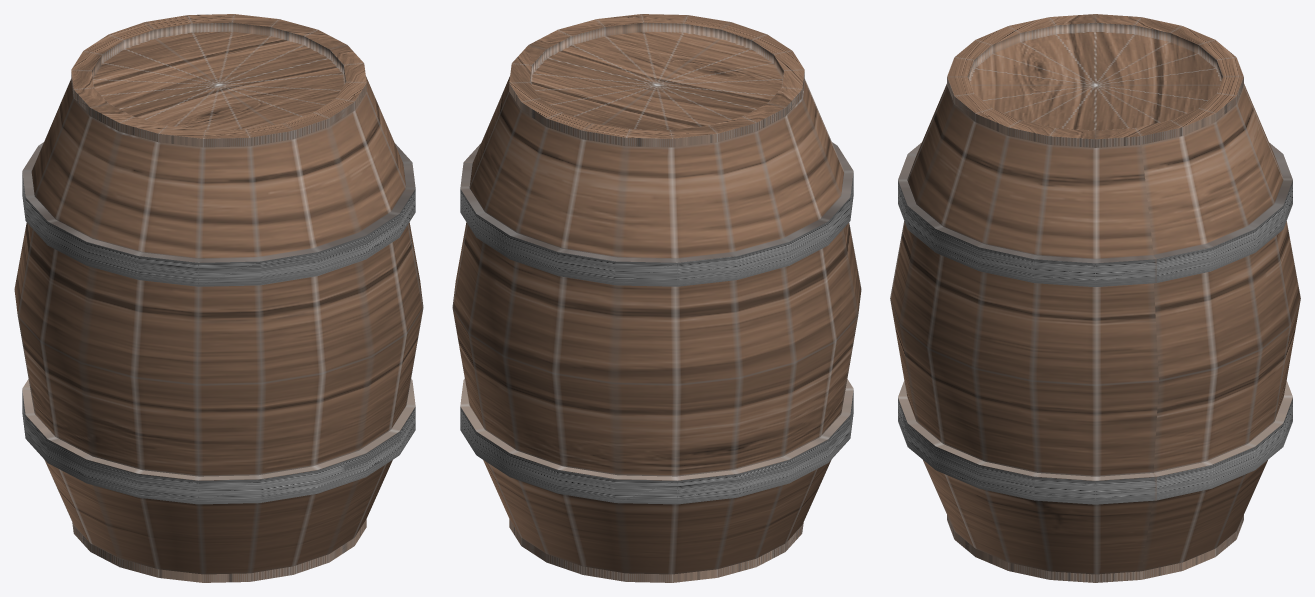
The model's file is Barrel.fbx.
3 renders of one model, left to right at view 1: azimuth 30°, elevation 25°; view 2: azimuth 150°, elevation 25°; view 3: azimuth 270°, elevation 25°, orthographic.
Parts seen in each view (by area): view 1: pCylinder1; view 2: pCylinder1; view 3: pCylinder1.
Boxes of the visible parts, <box> form: pCylinder1: <box>14,14,423,582</box>; pCylinder1: <box>452,14,861,582</box>; pCylinder1: <box>890,14,1300,582</box>.
Size of the model in its own units: 2.18 by 2.6 by 2.18.
